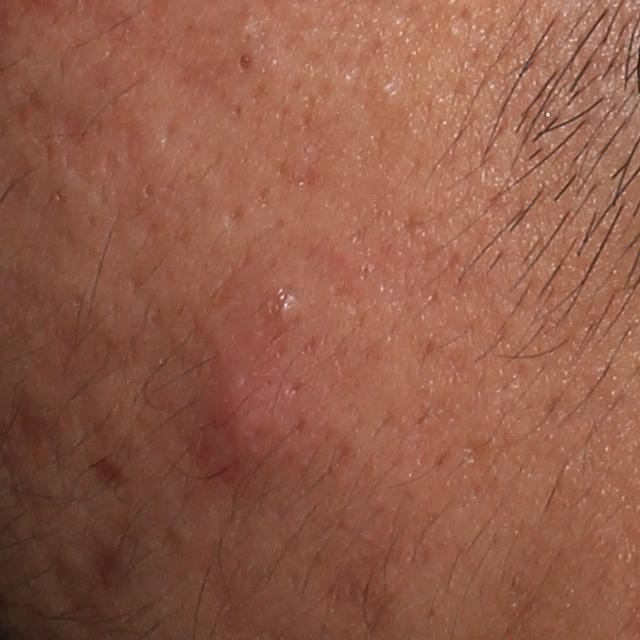comedo: (232, 47, 259, 75), (136, 180, 159, 203)
